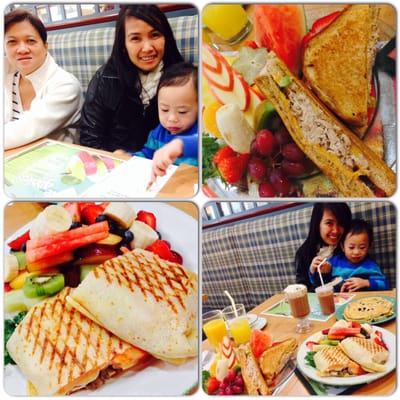pasta: (252, 61, 397, 197)
soup: (252, 56, 397, 197), (299, 4, 396, 142), (338, 327, 390, 373), (313, 345, 350, 377)
